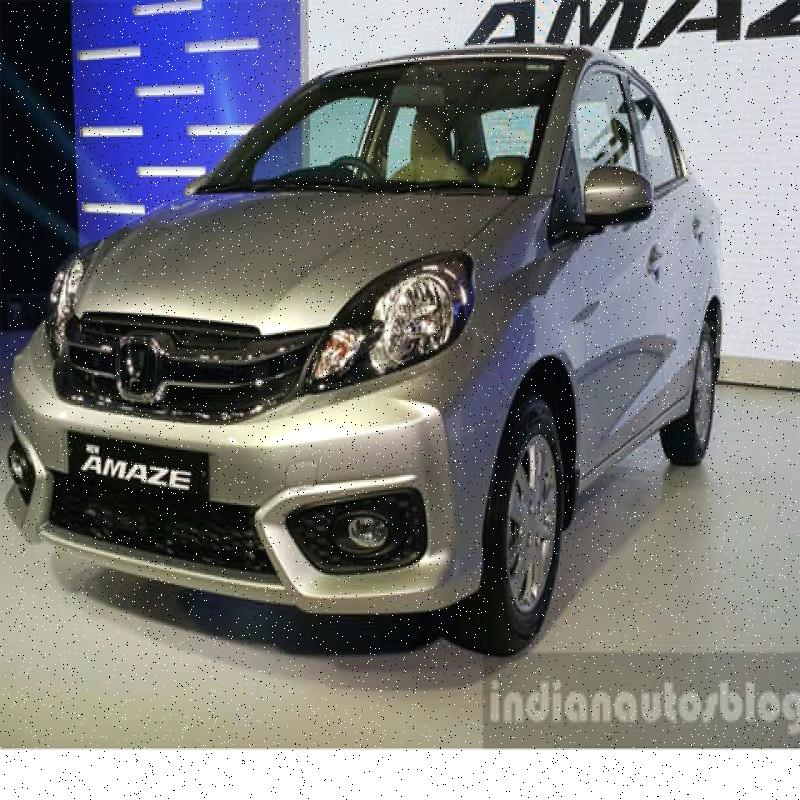car: (0, 50, 700, 649)
